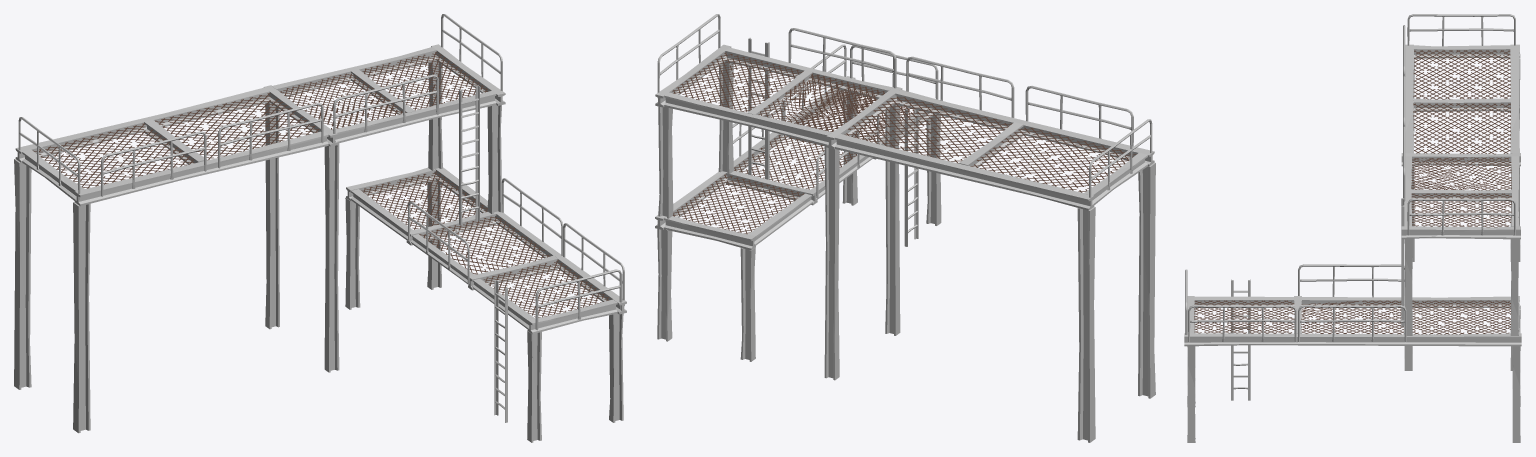
The model's file is SM_Prop_IndustrialWalkway_Preset_Large_01.fbx.
The picture shows the model from 3 angles, left to right: view 1: azimuth 30°, elevation 25°; view 2: azimuth 150°, elevation 25°; view 3: azimuth 270°, elevation 25°; orthographic projection. The views are drawn at different scales.
Parts seen in each view (by area): view 1: SM_Prop_IndustrialWalkway_Preset_Large_01; view 2: SM_Prop_IndustrialWalkway_Preset_Large_01; view 3: SM_Prop_IndustrialWalkway_Preset_Large_01.
Part boxes in pixels (x1=…): SM_Prop_IndustrialWalkway_Preset_Large_01: x1=14, y1=14, x2=626, y2=442; SM_Prop_IndustrialWalkway_Preset_Large_01: x1=655, y1=14, x2=1155, y2=442; SM_Prop_IndustrialWalkway_Preset_Large_01: x1=1184, y1=14, x2=1521, y2=442.
Bounding box in the file's own units: 1159 × 711 × 888.
